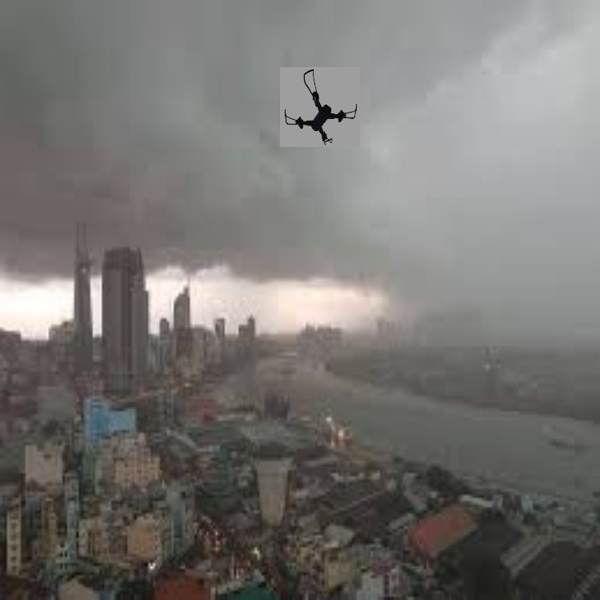drone: (280, 67, 363, 148)
